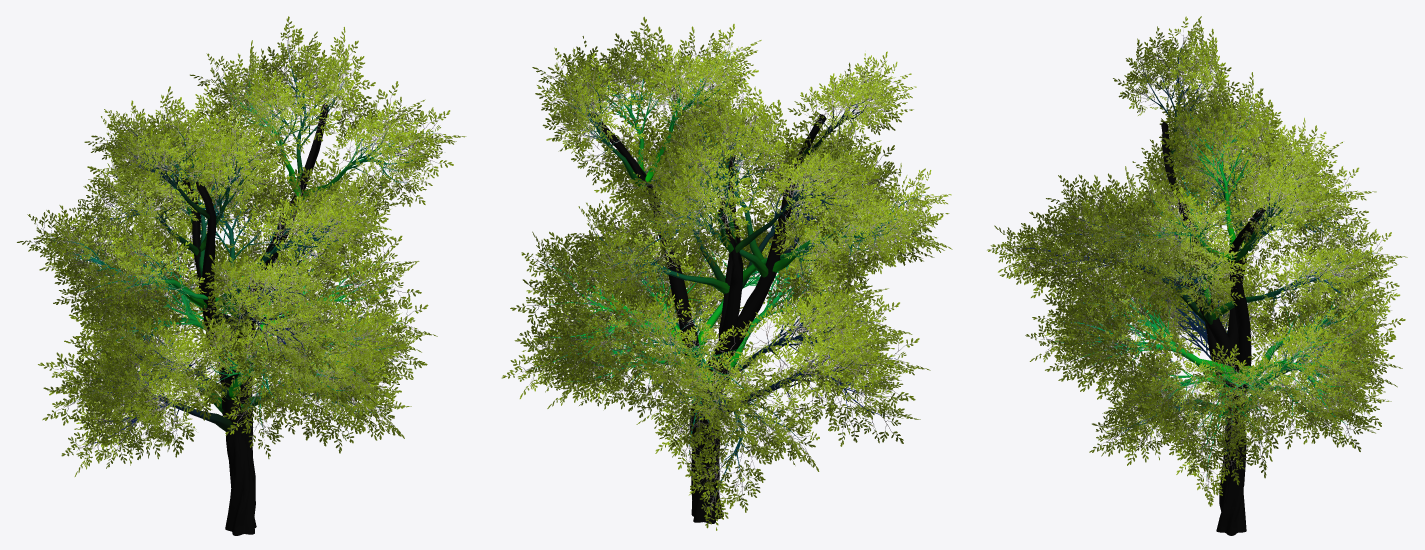
The model's file is OakTree04.fbx.
The picture shows the model from 3 angles, left to right: view 1: azimuth 30°, elevation 25°; view 2: azimuth 150°, elevation 25°; view 3: azimuth 270°, elevation 25°; orthographic projection. The views are drawn at different scales.
Parts seen in each view (by area): view 1: Tree_1, Tree_0; view 2: Tree_1, Tree_0; view 3: Tree_1, Tree_0.
Boxes of the visible parts, box(x1,y1,x2,y2) form: Tree_1: box(17, 16, 466, 476); Tree_0: box(50, 48, 433, 535); Tree_1: box(501, 16, 952, 530); Tree_0: box(535, 52, 925, 523); Tree_1: box(987, 16, 1407, 506); Tree_0: box(1015, 45, 1375, 535).
Bounding box in the file's own units: 134 × 150 × 128.
